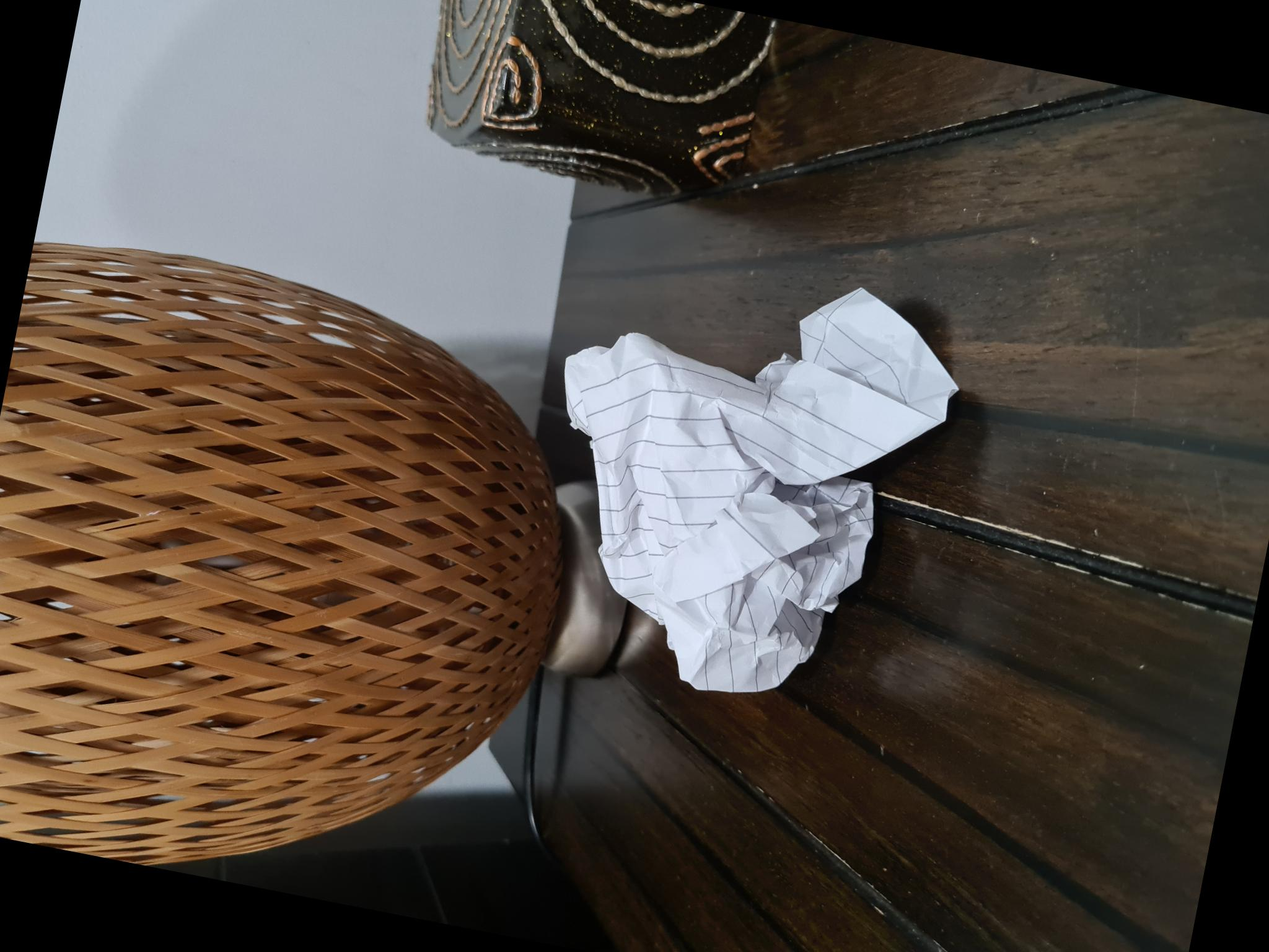Kertas: (235, 537, 640, 928)
